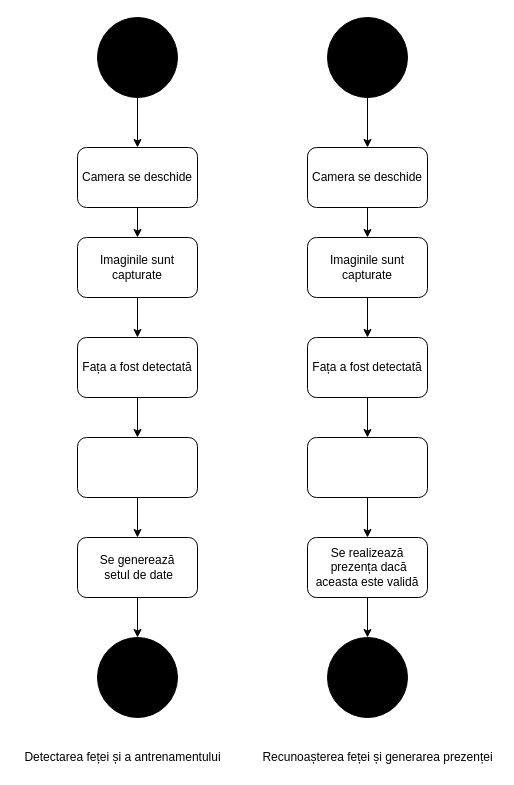
Image size: 514x785. Some labels were removed from this diagram. The box of each missing label's shape, as (x1, y1, x2, y2) in pixels:
Fața va fi incadrată într-un dreptunghi apoi va fi decupată: (76, 436, 198, 498)
Se trece la recunoașterea facială: (306, 436, 428, 498)
